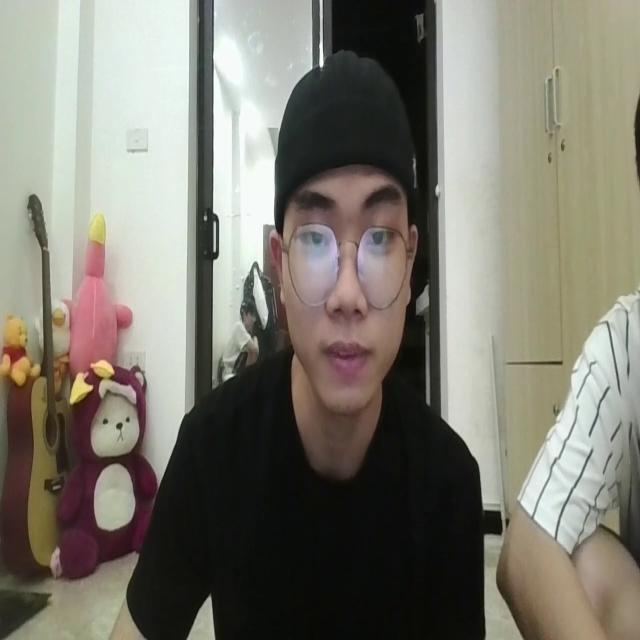extra_person: (496, 277, 640, 640)
student: (111, 49, 483, 640)
